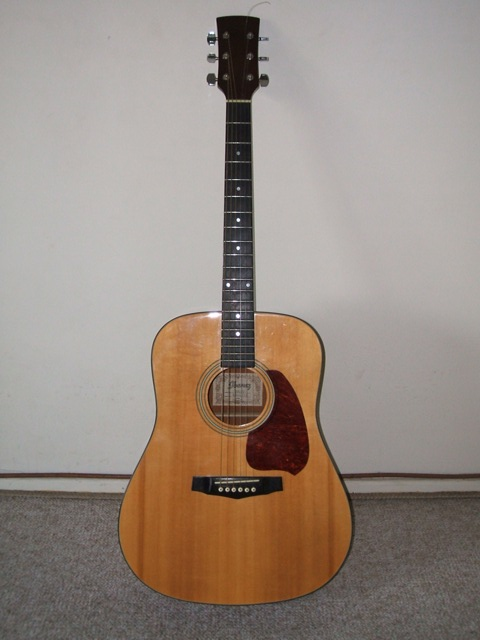guitar: (114, 17, 358, 604)
